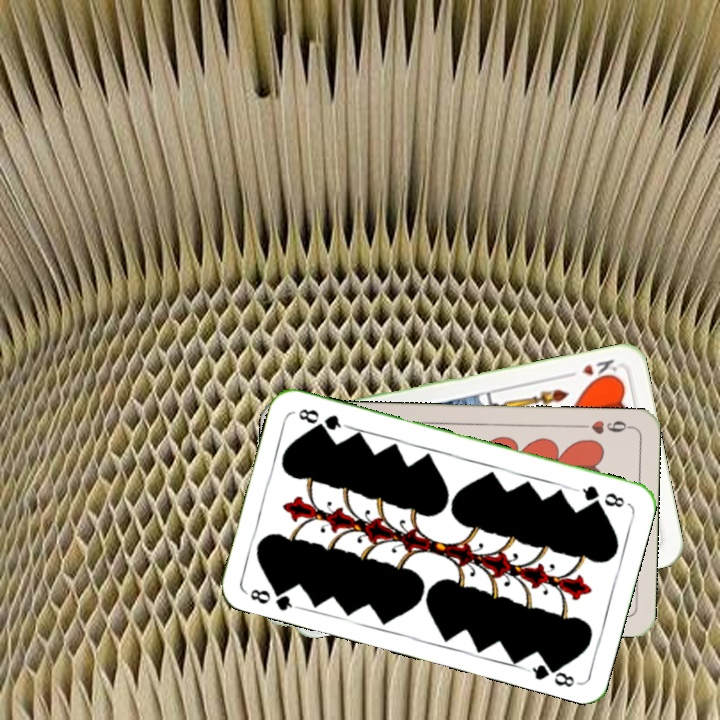G8: (243, 582, 301, 613), (572, 481, 627, 510)
H9: (575, 416, 634, 437)
HK: (562, 355, 621, 384)
